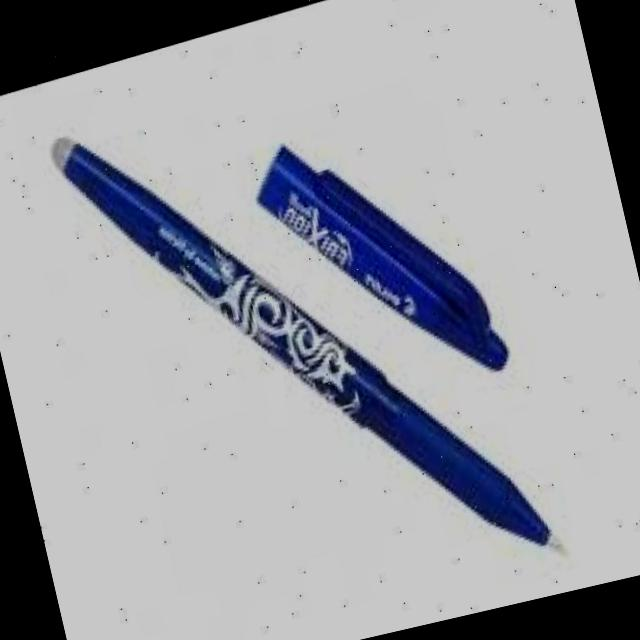Pen - Non Recyclable: (36, 17, 580, 640)
